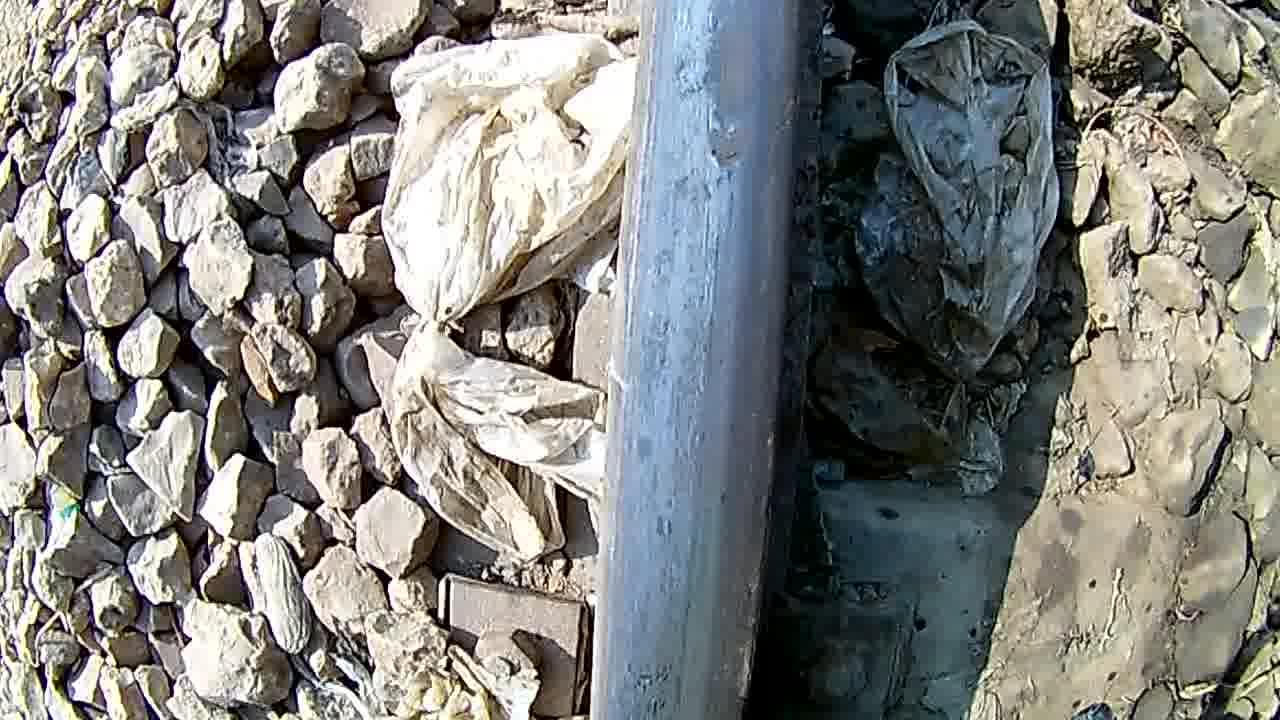bolt_missing: (644, 1, 804, 222)
